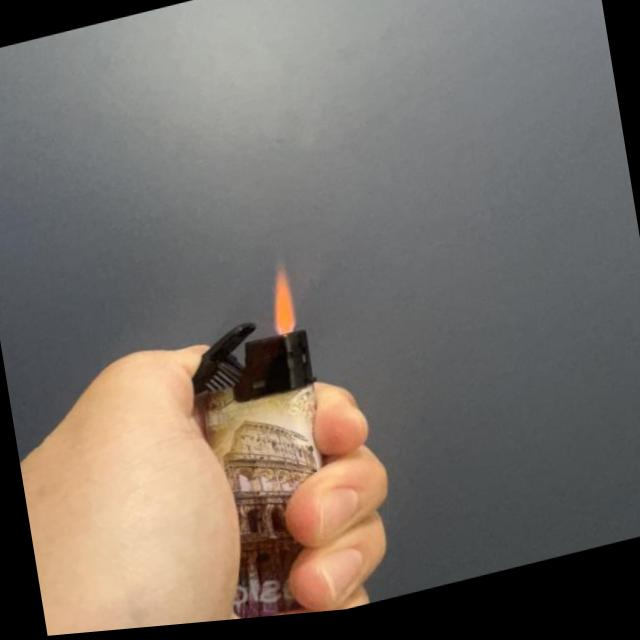Fire: (262, 263, 299, 342)
